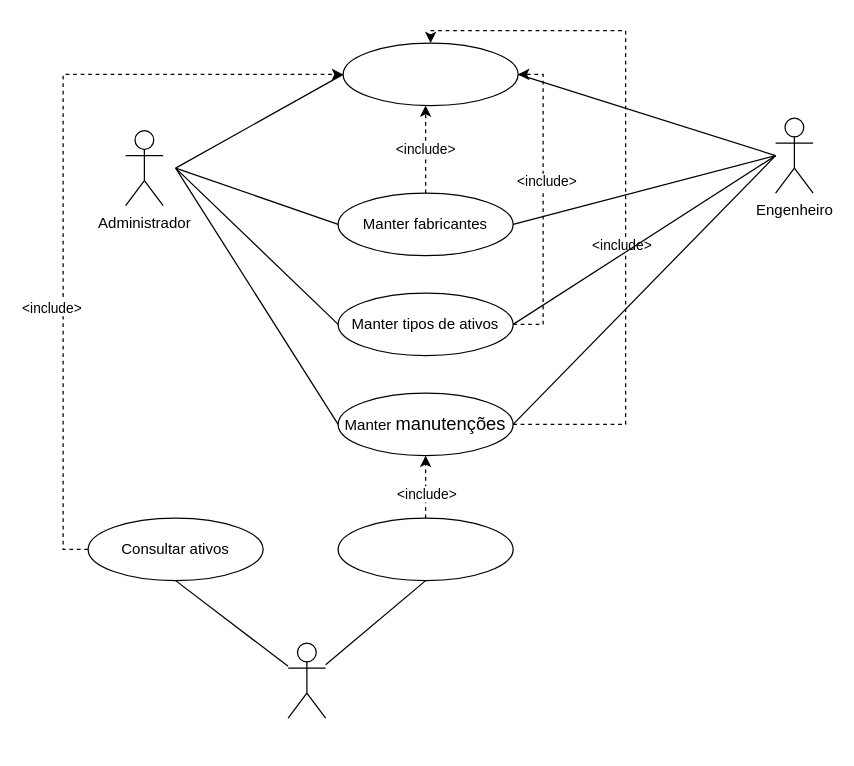
This 854x766 diagram has some shape labels left out. The centre of each missing label's shape, as x and y in pixels:
"Consultar manutenções" goes at point 425,549.
"Consultor" goes at point 306,680.
"Manter ativos" goes at point 430,74.
